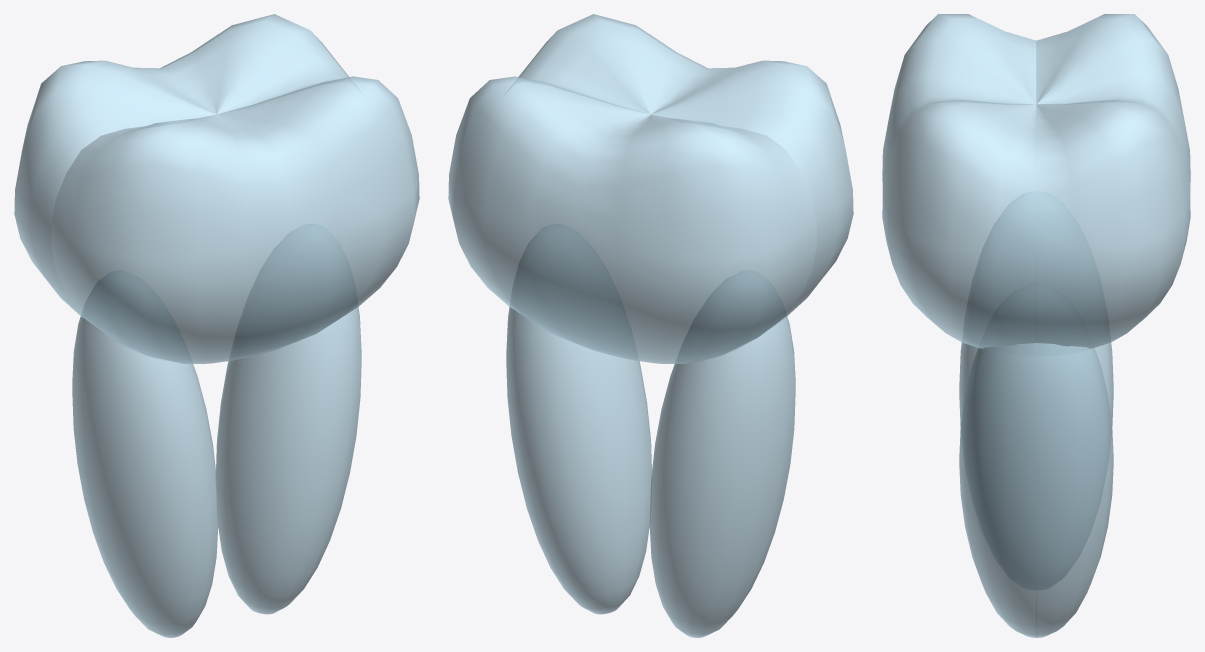
The model's file is dental-mobile.glb.
The picture shows the model from 3 angles, left to right: view 1: azimuth 30°, elevation 25°; view 2: azimuth 150°, elevation 25°; view 3: azimuth 270°, elevation 25°; orthographic projection.
Parts seen in each view (by area): view 1: fragment_2, fragment_4, fragment_5, fragment_3, fragment_0, fragment_1; view 2: fragment_0, fragment_4, fragment_5, fragment_1, fragment_2, fragment_3; view 3: fragment_5, fragment_3, fragment_1, fragment_0, fragment_2, fragment_4.
Part boxes in pixels (<box>): fragment_2: <box>51,114,293,363</box>; fragment_4: <box>72,316,218,637</box>; fragment_5: <box>216,307,361,614</box>; fragment_3: <box>217,76,419,355</box>; fragment_0: <box>14,60,216,321</box>; fragment_1: <box>160,14,348,114</box>; fragment_0: <box>574,114,816,363</box>; fragment_4: <box>649,316,795,637</box>; fragment_5: <box>506,307,651,614</box>; fragment_1: <box>448,76,650,355</box>; fragment_2: <box>651,60,853,321</box>; fragment_3: <box>519,14,707,114</box>; fragment_5: <box>959,343,1113,637</box>; fragment_3: <box>882,96,1036,348</box>; fragment_1: <box>1036,96,1190,348</box>; fragment_0: <box>1036,14,1190,190</box>; fragment_2: <box>882,14,1036,190</box>; fragment_4: <box>959,342,1113,425</box>.
Size of the model in its own units: 1.44 by 2.27 by 1.16.
